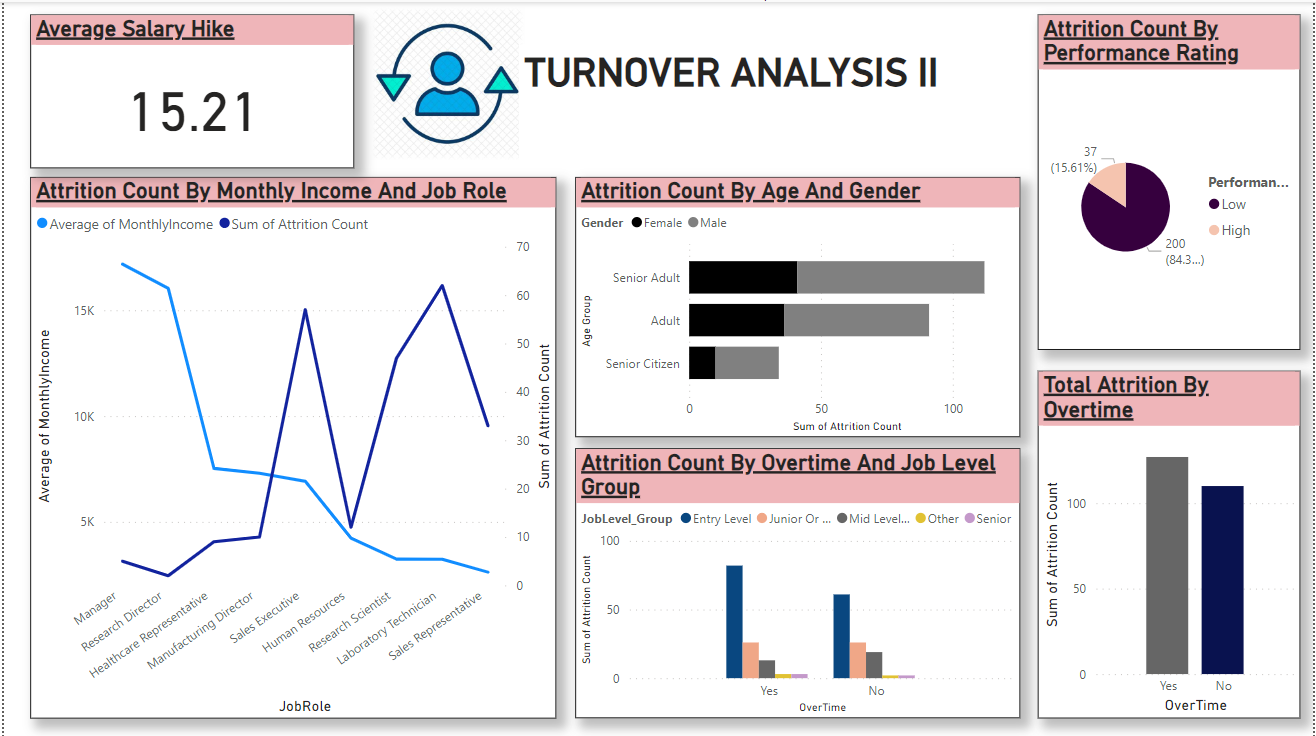

Layout of this report page (visuals, bound fields, positions):
{"tool":"powerbi","page":{"name":"Turnover Analysis II","canvas":[1280,720],"ordinal":3},"visuals":[{"type":"image","box":[176,0,514.6,160.1],"z":0},{"type":"textbox","box":[503.6,41.6,507.3,546.4],"z":1000},{"type":"lineChart","title":"Attrition Count By Monthly Income And Job Role","fields":{"Category":["HR-Employee-Attrition.JobRole"],"Y":["Avg(HR-Employee-Attrition.MonthlyIncome)"],"Y2":["Sum(HR-Employee-Attrition.Attrition Count)"]},"box":[25.7,171.1,514.6,529.3],"z":2000},{"type":"barChart","title":"Attrition Count By Age And Gender","fields":{"Category":["HR-Employee-Attrition.Age Group"],"Series":["HR-Employee-Attrition.Gender"],"Y":["Sum(HR-Employee-Attrition.Attrition Count)"]},"box":[558.6,171.1,435.2,254.3],"z":3000},{"type":"clusteredColumnChart","title":"Attrition Count By Overtime And Job Level Group","fields":{"Category":["HR-Employee-Attrition.OverTime"],"Series":["HR-Employee-Attrition.JobLevel_Group"],"Y":["Sum(HR-Employee-Attrition.Attrition Count)"]},"box":[558.6,436.4,435.2,264],"z":4000},{"type":"pieChart","title":"Attrition Count By Performance Rating","fields":{"Category":["HR-Employee-Attrition.PerformanceRating"],"Y":["Sum(HR-Employee-Attrition.Attrition Count)"]},"box":[1010.9,12.2,256.7,327.6],"z":5000},{"type":"columnChart","title":"Total Attrition By Overtime","fields":{"Y":["Sum(HR-Employee-Attrition.Attrition Count)"],"Category":["HR-Employee-Attrition.OverTime"]},"box":[1010.9,360.6,256.7,339.8],"z":6000},{"type":"card","title":"Average Salary Hike","fields":{"Values":["Avg(HR-Employee-Attrition.PercentSalaryHike)"]},"box":[25.7,12.2,316.6,150.4],"z":7000}]}

Visuals, with their boxes in screenshot pixels (x1, y1, x2, y2), scaled from the page's 1280x720 canvas onto the 1316x736 screenshot:
image: left=181, top=0, right=710, bottom=164
textbox: left=518, top=43, right=1039, bottom=601
"Attrition Count By Monthly Income And Job Role" lineChart: left=26, top=175, right=555, bottom=716
"Attrition Count By Age And Gender" barChart: left=574, top=175, right=1022, bottom=435
"Attrition Count By Overtime And Job Level Group" clusteredColumnChart: left=574, top=446, right=1022, bottom=716
"Attrition Count By Performance Rating" pieChart: left=1039, top=12, right=1303, bottom=347
"Total Attrition By Overtime" columnChart: left=1039, top=369, right=1303, bottom=716
"Average Salary Hike" card: left=26, top=12, right=352, bottom=166
